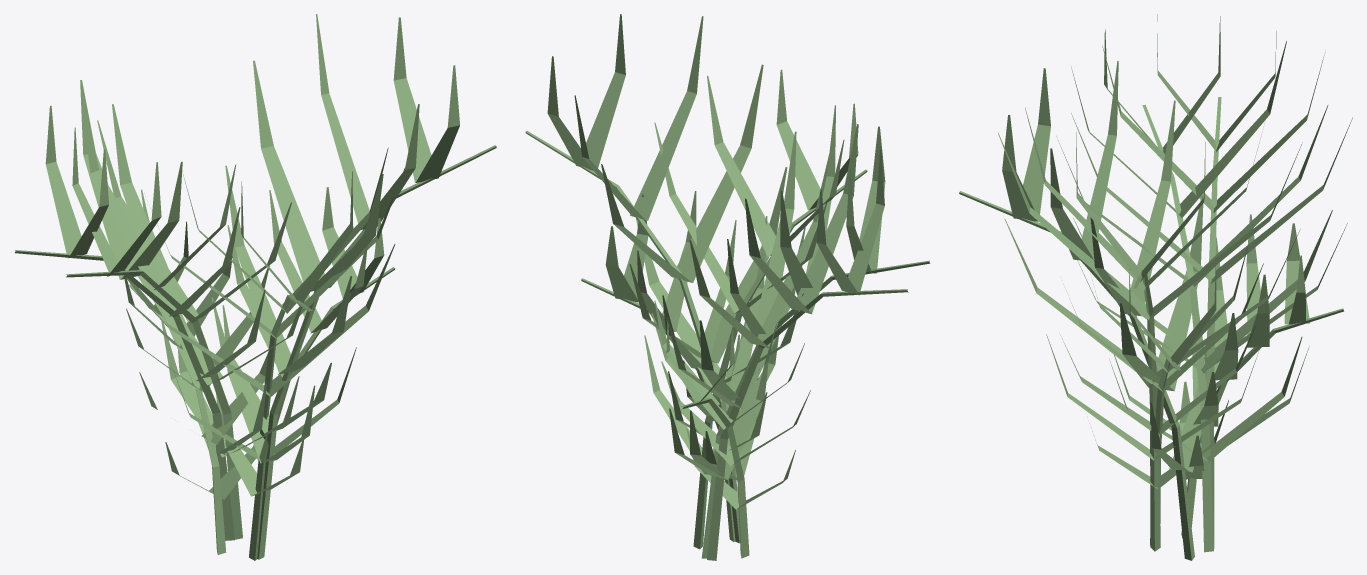
The model's file is royal-fern.glb.
The picture shows the model from 3 angles, left to right: view 1: azimuth 30°, elevation 25°; view 2: azimuth 150°, elevation 25°; view 3: azimuth 270°, elevation 25°; orthographic projection. The views are drawn at different scales.
Visible parts, largest first — view 1: fern-royal; view 2: fern-royal; view 3: fern-royal.
Boxes of the visible parts, x1=… form: fern-royal: x1=14, y1=14, x2=496, y2=560; fern-royal: x1=525, y1=14, x2=930, y2=560; fern-royal: x1=959, y1=14, x2=1352, y2=560.
Bounding box in the file's own units: 1.21 × 1.27 × 0.913.
